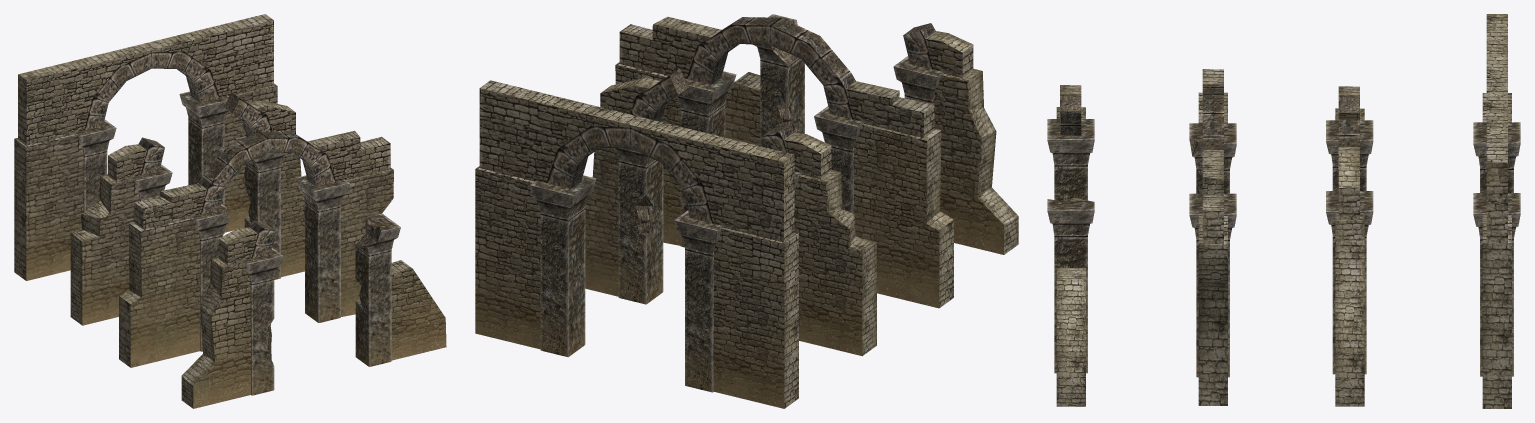
The model's file is ancient_ruins_03_03.FBX.
3 views of the same model, side by side, from view 1: azimuth 30°, elevation 25°; view 2: azimuth 150°, elevation 25°; view 3: azimuth 270°, elevation 25° (orthographic). The views are drawn at different scales.
Parts seen in each view (by area): view 1: Object022, Object024, Object027, Object023; view 2: Object022, Object024, Object023, Object027; view 3: Object022, Object024, Object023, Object027.
Boxes of the visible parts, x1,y1,x2,y2 form: Object022: (14, 14, 277, 280); Object024: (119, 130, 393, 367); Object027: (181, 213, 446, 408); Object023: (70, 92, 304, 325); Object022: (475, 80, 798, 408); Object024: (615, 16, 953, 308); Object023: (585, 68, 876, 356); Object027: (725, 14, 1018, 254); Object022: (1473, 14, 1520, 408); Object024: (1189, 69, 1236, 405); Object023: (1326, 86, 1373, 406); Object027: (1047, 85, 1094, 406).
Size of the model in its own units: 1992 by 2517 by 1457.
Materials: 2 (2 with a texture image).
